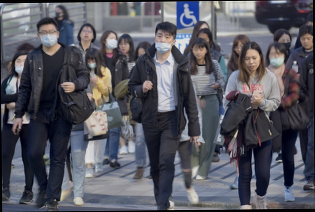mask_weared_incorrect: (153, 32, 174, 54), (267, 49, 285, 70), (13, 57, 28, 75)
with_mask: (39, 28, 57, 48), (103, 36, 119, 52), (277, 37, 291, 53), (85, 57, 97, 71)
without_mask: (243, 52, 261, 72), (192, 45, 207, 61), (78, 28, 93, 43), (299, 36, 313, 50), (232, 42, 244, 57), (118, 41, 130, 55)
